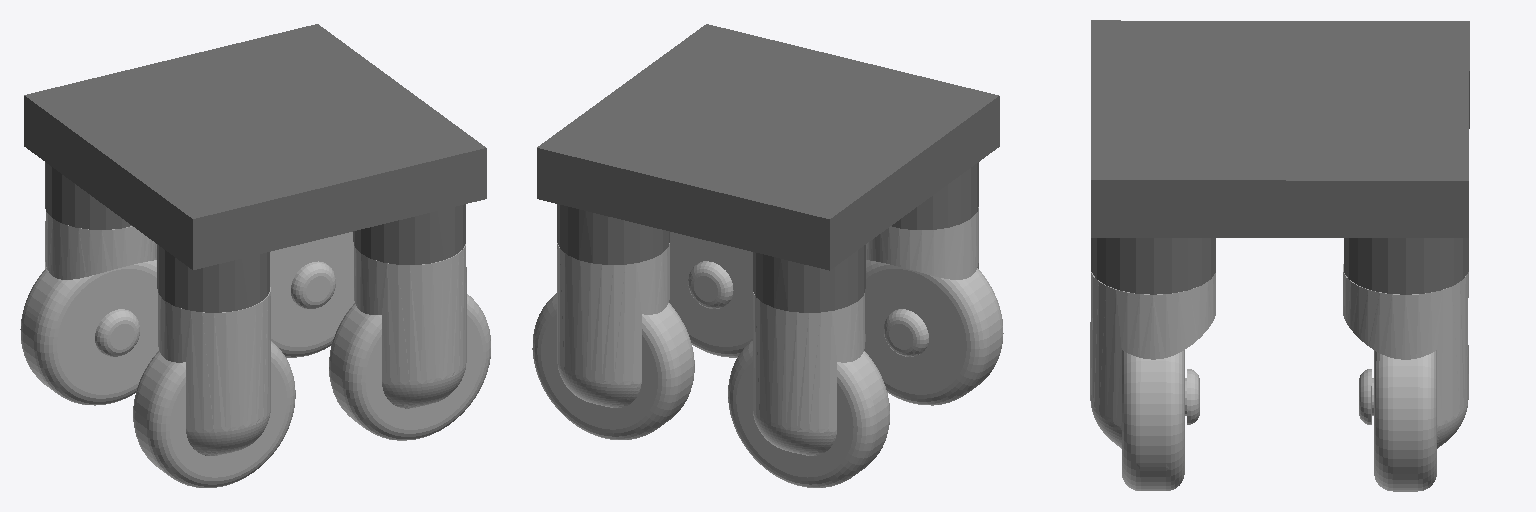
URDF robot description (robot):
<?xml version="1.0" encoding="utf-8"?>
<!-- This URDF was automatically created by SolidWorks to URDF Exporter! Originally created by [author] ([email redacted]) 
     Commit Version: 1.5.1-0-g916b5db  Build Version: 1.5.7152.31018
     For more information, please see http://wiki.ros.org/sw_urdf_exporter -->
<robot  name="robot">

  <link    name="base_link"/>

  <link    name="base_footprint"/>

  <joint    name="base_joint"    type="fixed">
    <origin      xyz="-0.0825 0.23 0.0"      rpy="0 0 0" />
    <parent      link="base_link" />
    <child       link="body_link" />
   </joint>

  <joint    name="footprint_joint"    type="fixed">
    <origin      xyz="0.0 0.0 0.05"      rpy="0 0 3.14" />
    <child       link="base_link" />
    <parent      link="base_footprint" />
   </joint>

  <link    name="body_link">
    <inertial>
      <origin        xyz="0.0825 -0.23 0.0"       rpy="0 0 0" />
      <mass        value="5.8352" />
      <inertia
        ixx="0.051662"
        ixy="1.5447E-19"
        ixz="-5.3444E-18"
        iyy="0.096093"
        iyz="1.3663E-18"
        izz="0.051662" />
    </inertial>
    <visual>
      <origin
        xyz="0 0 0"        rpy="0 0 0" />
      <geometry>
        <mesh          filename="package://swerve_steering_controller/test/meshes/base_link.STL" />
      </geometry>
      <material        name="">
        <color          rgba="0.4902 0.4902 0.4902 1" />
      </material>
    </visual>
    <collision>
      <origin        xyz="0 0 0"        rpy="0 0 0" />
      <geometry>
        <mesh          filename="package://swerve_steering_controller/test/meshes/base_link.STL" />
      </geometry>
    </collision>
  </link>

  <link    name="holder1">
    <inertial>
      <origin        xyz="0 0 0"        rpy="0 0 0" />
      <mass        value="0.58636" />
      <inertia        ixx="0.0014669"
        ixy="3.76E-09"
        ixz="-1.5106E-08"
        iyy="0.00067552"
        iyz="0.00020628"
        izz="0.0013858" />
    </inertial>
    <visual>
      <origin        xyz="0 0 0"        rpy="0 0 0" />
      <geometry>
        <mesh          filename="package://swerve_steering_controller/test/meshes/holder.STL" />
      </geometry>
      <material        name="">
        <color          rgba="0.74902 0.74902 0.74902 1" />
      </material>
    </visual>
    <collision>
      <origin        xyz="0 0 0"        rpy="0 0 0" />
      <geometry>
        <mesh          filename="package://swerve_steering_controller/test/meshes/holder.STL" />
      </geometry>
    </collision>
  </link>

  <joint    name="holder1_joint"    type="revolute">
    <origin        xyz="-0.1 -0.1 0.0"        rpy="1.5707963267949 0 0" />
    <parent      link="base_link" />
    <child       link="holder1" />
    <axis      xyz="0 1 0" />
    <limit lower="-3.14" upper="3.14" effort="10" velocity="5" />
  </joint>

  <link    name="wheel1">
    <inertial>
      <origin        xyz="5.55111512312578E-17 0 2.77555756156289E-17"        rpy="0 0 0" />
      <mass        value="0.804755089119524" />
      <inertia
        ixx="0.00225686979861389"
        ixy="3.55130100311719E-21"
        ixz="3.03395470716965E-23"
        iyy="0.00128454628371734"
        iyz="-2.71050543121376E-20"
        izz="0.00128454628371734" />
    </inertial>
    <visual>
      <origin        xyz="0 0 0"        rpy="0 0 0" />
      <geometry>
        <mesh          filename="package://swerve_steering_controller/test/meshes/wheel.STL" />
      </geometry>
      <material        name="">
        <color          rgba="0.749019607843137 0.749019607843137 0.749019607843137 1" />
      </material>
    </visual>
    <collision>
      <origin        xyz="0 0 0"        rpy="0 0 0" />
      <geometry>
        <mesh          filename="package://swerve_steering_controller/test/meshes/wheel.STL" />
      </geometry>
    </collision>
  </link>

  <joint    name="wheel1_joint"    type="continuous">
    <origin      xyz="0 0.01641 0"      rpy="0.014754 -1.5708 0" />
    <parent      link="holder1" />
    <child       link="wheel1" />
    <axis      xyz="1 0 0" />
  </joint>

  <link    name="holder2">
    <inertial>
      <origin        xyz="0 0 0"        rpy="0 0 0" />
      <mass        value="0.586361108477723" />
      <inertia
        ixx="0.00146690099439831"
        ixy="-3.7924532207566E-09"
        ixz="-1.39239910458341E-08"
        iyy="0.000675517035291545"
        iyz="0.000206284702978957"
        izz="0.00138577034985078" />
    </inertial>
    <visual>
      <origin        xyz="0 0 0"        rpy="0 0 0" />
      <geometry>
        <mesh          filename="package://swerve_steering_controller/test/meshes/holder.STL" />
      </geometry>
      <material        name="">
        <color          rgba="0.749019607843137 0.749019607843137 0.749019607843137 1" />
      </material>
    </visual>
    <collision>
      <origin        xyz="0 0 0"        rpy="0 0 0" />
      <geometry>
        <mesh          filename="package://swerve_steering_controller/test/meshes/holder.STL" />
      </geometry>
    </collision>
  </link>

  <joint    name="holder2_joint"    type="revolute">
    <origin        xyz="-0.1 0.1 0.0"        rpy="1.5707963267949 0 3.14" />
    <parent      link="base_link" />
    <child      link="holder2" />
    <axis      xyz="0 1 0" />
    <limit lower="-3.14" upper="3.14" effort="10" velocity="5" />
  </joint>

  <link    name="wheel2">
    <inertial>
      <origin        xyz="-8.8818E-16 0 0"
        rpy="0 0 0" />
      <mass        value="0.80476" />
      <inertia
        ixx="0.0022569"
        ixy="1.9787E-18"
        ixz="6.4713E-19"
        iyy="0.0012845"
        iyz="-1.171E-19"
        izz="0.0012845" />
    </inertial>
    <visual>
      <origin        xyz="0 0 0"        rpy="0 0 0" />
      <geometry>
        <mesh          filename="package://swerve_steering_controller/test/meshes/wheel.STL" />
      </geometry>
      <material        name="">
        <color          rgba="0.74902 0.74902 0.74902 1" />
      </material>
    </visual>
    <collision>
      <origin        xyz="0 0 0"        rpy="0 0 0" />
      <geometry>
        <mesh          filename="package://swerve_steering_controller/test/meshes/wheel.STL" />
      </geometry>
    </collision>
  </link>

  <joint    name="wheel2_joint"    type="continuous">
    <origin      xyz="0 0.0164098027323638 0"      rpy="1.14124810858577 -1.5707963267949 0" />
    <parent      link="holder2" />
    <child      link="wheel2" />
    <axis      xyz="-1 0 0" />
  </joint>

  <link    name="holder3">
    <inertial>
      <origin        xyz="0 0 0"        rpy="0 0 0" />
      <mass        value="0.58636" />
      <inertia
        ixx="0.0014669"
        ixy="7.7231E-09"
        ixz="-1.5698E-08"
        iyy="0.00067552"
        iyz="0.00020628"
        izz="0.0013858" />
    </inertial>
    <visual>
      <origin        xyz="0 0 0"        rpy="0 0 0" />
      <geometry>
        <mesh          filename="package://swerve_steering_controller/test/meshes/holder.STL" />
      </geometry>
      <material        name="">
        <color          rgba="0.74902 0.74902 0.74902 1" />
      </material>
    </visual>
    <collision>
      <origin        xyz="0 0 0"        rpy="0 0 0" />
      <geometry>
        <mesh          filename="package://swerve_steering_controller/test/meshes/holder.STL" />
      </geometry>
    </collision>
  </link>

  <joint    name="holder3_joint"    type="revolute">
    <origin      xyz="0.1 -0.1 0.0"      rpy="1.5707963267949 0 0.0" />
    <parent      link="base_link" />
    <child      link="holder3" />
    <axis      xyz="0 1 0" />
    <limit lower="-3.14" upper="3.14" effort="10" velocity="5" />
  </joint>

  <link    name="wheel3">
    <inertial>
      <origin        xyz="-1.11022302462516E-16 -1.38777878078145E-17 -3.46944695195361E-18"        rpy="0 0 0" />
      <mass        value="0.804755089119525" />
      <inertia
        ixx="0.00225686979861389"
        ixy="-6.5390943528032E-19"
        ixz="-1.67712523556351E-19"
        iyy="0.00128454628371734"
        iyz="-4.12134468398421E-20"
        izz="0.00128454628371734" />
    </inertial>
    <visual>
      <origin        xyz="0 0 0"        rpy="0 0 0" />
      <geometry>
        <mesh          filename="package://swerve_steering_controller/test/meshes/wheel.STL" />
      </geometry>
      <material        name="">
        <color          rgba="0.749019607843137 0.749019607843137 0.749019607843137 1" />
      </material>
    </visual>
    <collision>
      <origin        xyz="0 0 0"        rpy="0 0 0" />
      <geometry>
        <mesh          filename="package://swerve_steering_controller/test/meshes/wheel.STL" />
      </geometry>
    </collision>
  </link>

  <joint    name="wheel3_joint"    type="continuous">
    <origin      xyz="0 0.0164098027323634 0"      rpy="1.86472736154635 -1.5707963267949 0" />
    <parent      link="holder3" />
   <child      link="wheel3" />
    <axis      xyz="1 0 0" />
  </joint>

  <link    name="holder4">
    <inertial>
      <origin        xyz="0 0 0"        rpy="0 0 0" />
      <mass        value="0.58636" />
      <inertia
        ixx="0.0014669"
        ixy="8.4388E-09"
        ixz="-1.5806E-08"
        iyy="0.00067552"
        iyz="0.00020628"
        izz="0.0013858" />
    </inertial>
    <visual>
      <origin        xyz="0 0 0"        rpy="0 0 0" />
      <geometry>
        <mesh          filename="package://swerve_steering_controller/test/meshes/holder.STL" />
      </geometry>
      <material        name="">
        <color          rgba="0.74902 0.74902 0.74902 1" />
      </material>
    </visual>
    <collision>
      <origin        xyz="0 0 0"        rpy="0 0 0" />
      <geometry>
        <mesh          filename="package://swerve_steering_controller/test/meshes/holder.STL" />
      </geometry>
    </collision>
  </link>

  <joint    name="holder4_joint"    type="revolute">
    <origin      xyz="0.1 0.1 0.0"      rpy="1.5707963267949 0 3.14" />
    <parent      link="base_link" />
    <child       link="holder4" />
    <axis      xyz="0 1 0" />
    <limit lower="-3.14" upper="3.14" effort="10" velocity="5" />
  </joint>

  <link    name="wheel4">
    <inertial>
      <origin        xyz="2.7756E-17 -6.9389E-18 0"        rpy="0 0 0" />
      <mass        value="0.80476" />
      <inertia
        ixx="0.0022569"
        ixy="5.9813E-20"
        ixz="-1.0639E-18"
        iyy="0.0012845"
        iyz="1.8136E-19"
        izz="0.0012845" />
    </inertial>
    <visual>
      <origin        xyz="0 0 0"        rpy="0 0 0" />
      <geometry>
        <mesh          filename="package://swerve_steering_controller/test/meshes/wheel.STL" />
      </geometry>
      <material        name="">
        <color          rgba="0.74902 0.74902 0.74902 1" />
      </material>
    </visual>
    <collision>
      <origin        xyz="0 0 0"        rpy="0 0 0" />
      <geometry>
        <mesh          filename="package://swerve_steering_controller/test/meshes/wheel.STL" />
      </geometry>
    </collision>
  </link>

  <joint    name="wheel4_joint"    type="continuous">
    <origin      xyz="0 0.01641 0"      rpy="3.1416 -1.5708 0" />
    <parent      link="holder4" />
    <child      link="wheel4" />
    <axis      xyz="-1 0 0" />
  </joint>

 <gazebo reference="body_link">
    <material>Gazebo/Orange</material>
  </gazebo>

 <gazebo reference="holder1">
    <material>Gazebo/Orange</material>
  </gazebo>

 <gazebo reference="holder2">
    <material>Gazebo/Orange</material>
  </gazebo>

 <gazebo reference="holder3">
    <material>Gazebo/Orange</material>
  </gazebo>

 <gazebo reference="holder4">
    <material>Gazebo/Orange</material>
  </gazebo>

 <gazebo reference="wheel1">
    <material>Gazebo/Black</material>
  </gazebo>

 <gazebo reference="wheel2">
    <material>Gazebo/Black</material>
  </gazebo>

 <gazebo reference="wheel3">
    <material>Gazebo/Black</material>
  </gazebo>

 <gazebo reference="wheel4">
    <material>Gazebo/Black</material>
  </gazebo>

  <gazebo>
    <plugin name="gazebo_ros_control" filename="libgazebo_ros_control.so">
      <robotNamespace>/</robotNamespace>
      <robotSimType>gazebo_ros_control/DefaultRobotHWSim</robotSimType>
    </plugin>
  </gazebo>

  <transmission name="trans_holder1">
      <type>transmission_interface/SimpleTransmission</type>
      <joint name="holder1_joint">
          <hardwareInterface>hardware_interface/PositionJointInterface</hardwareInterface>
      </joint>
      <actuator name="holder1_motor">
          <mechanicalReduction>1</mechanicalReduction>
      </actuator>
  </transmission>

  <transmission name="trans_holder2">
      <type>transmission_interface/SimpleTransmission</type>
      <joint name="holder2_joint">
          <hardwareInterface>hardware_interface/PositionJointInterface</hardwareInterface>
      </joint>
      <actuator name="holder2_motor">
          <mechanicalReduction>1</mechanicalReduction>
      </actuator>
  </transmission>

  <transmission name="trans_holder3">
      <type>transmission_interface/SimpleTransmission</type>
      <joint name="holder3_joint">
          <hardwareInterface>hardware_interface/PositionJointInterface</hardwareInterface>
      </joint>
      <actuator name="holder3_motor">
          <mechanicalReduction>1</mechanicalReduction>
      </actuator>
  </transmission>

  <transmission name="trans_holder4">
      <type>transmission_interface/SimpleTransmission</type>
      <joint name="holder4_joint">
          <hardwareInterface>hardware_interface/PositionJointInterface</hardwareInterface>
      </joint>
      <actuator name="holder4_motor">
          <mechanicalReduction>1</mechanicalReduction>
      </actuator>
  </transmission>

  <transmission name="trans_wheel1">
      <type>transmission_interface/SimpleTransmission</type>
      <joint name="wheel1_joint">
          <hardwareInterface>hardware_interface/VelocityJointInterface</hardwareInterface>
      </joint>
      <actuator name="wheel1_motor">
          <mechanicalReduction>1</mechanicalReduction>
      </actuator>
  </transmission>

  <transmission name="trans_wheel2">
      <type>transmission_interface/SimpleTransmission</type>
      <joint name="wheel2_joint">
          <hardwareInterface>hardware_interface/VelocityJointInterface</hardwareInterface>
      </joint>
      <actuator name="wheel2_motor">
          <mechanicalReduction>1</mechanicalReduction>
      </actuator>
  </transmission>

  <transmission name="trans_wheel3">
      <type>transmission_interface/SimpleTransmission</type>
      <joint name="wheel3_joint">
          <hardwareInterface>hardware_interface/VelocityJointInterface</hardwareInterface>
      </joint>
      <actuator name="wheel3_motor">
          <mechanicalReduction>1</mechanicalReduction>
      </actuator>
  </transmission>

  <transmission name="trans_wheel4" type="SimpleTransmission">
      <type>transmission_interface/SimpleTransmission</type>
      <joint name="wheel4_joint">
          <hardwareInterface>hardware_interface/VelocityJointInterface</hardwareInterface>
      </joint>
      <actuator name="wheel4_motor">
          <mechanicalReduction>1</mechanicalReduction>
      </actuator>
  </transmission>


  <gazebo>
    <plugin name="ground_truth" filename="libgazebo_ros_p3d.so">
      <alwaysOn>true</alwaysOn>
      <updateRate>50.0</updateRate>
      <gaussianNoise>0.01</gaussianNoise>
      <bodyName>base_footprint</bodyName>
      <topicName>odomw</topicName>
    </plugin>
  </gazebo>


</robot>

--- Render facts (derived) ---
Views: 3 orthographic renders of the robot side by side, from view 1: azimuth 30°, elevation 25°; view 2: azimuth 150°, elevation 25°; view 3: azimuth 270°, elevation 25°.
Robot: robot — 11 links, 10 joints (4 revolute, 4 continuous, 2 fixed); root link base_footprint; default pose: every joint at zero.
Links seen in each view (by area): view 1: body_link, wheel3, holder4, holder2, wheel4, wheel2, wheel1, holder3, holder1; view 2: body_link, wheel4, holder1, holder3, wheel3, wheel1, wheel2, holder4, holder2; view 3: body_link, holder2, holder1, wheel1, wheel2.
Link boxes in pixels (x1,y1,x2,y2): body_link: (24,24,486,312); wheel3: (20,260,158,405); holder4: (158,287,270,455); holder2: (354,244,466,408); wheel4: (133,341,295,487); wheel2: (329,294,490,440); wheel1: (270,232,354,357); holder3: (45,212,156,356); holder1: (291,261,335,308); body_link: (537,24,999,312); wheel4: (864,260,1003,405); holder1: (557,243,669,407); holder3: (753,292,865,455); wheel3: (728,341,889,487); wheel1: (532,293,694,439); wheel2: (669,232,752,357); holder4: (866,207,978,356); holder2: (688,261,733,308); body_link: (1091,20,1469,294); holder2: (1090,272,1215,448); holder1: (1343,264,1468,448); wheel1: (1374,350,1436,491); wheel2: (1122,350,1184,490).
Size in the robot's own frame: 0.3503 by 0.3008 by 0.2875 metres.
9 mesh visuals loaded from 3 distinct referenced files (3 binary STL).